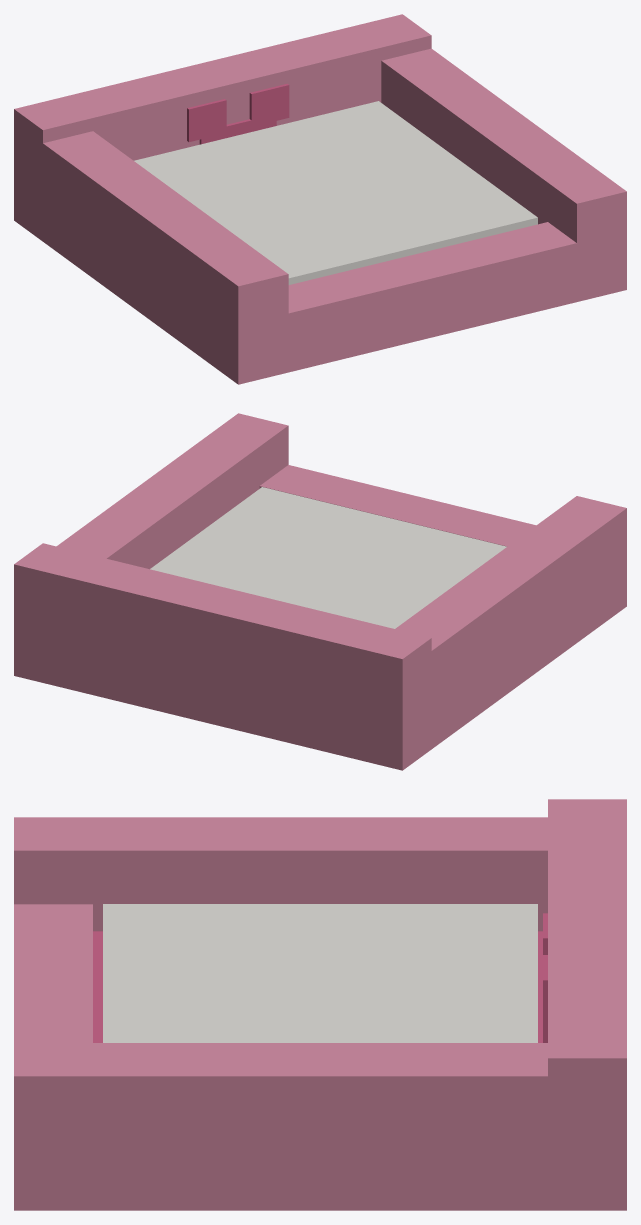
The model's file is ncb-pet-bed-pink.glb.
The picture shows the model from 3 angles, top to bottom: view 1: azimuth 30°, elevation 25°; view 2: azimuth 150°, elevation 25°; view 3: azimuth 270°, elevation 25°; orthographic projection. The views are drawn at different scales.
Parts seen in each view (by area): view 1: box-prop; view 2: box-prop; view 3: box-prop.
Part boxes in pixels (x1=…): box-prop: x1=14, y1=14, x2=626, y2=384; box-prop: x1=14, y1=413, x2=626, y2=770; box-prop: x1=14, y1=799, x2=626, y2=1210.
Size of the model in its own units: 1.24 by 0.34 by 1.24.
